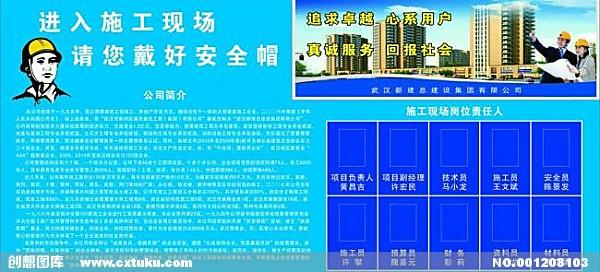helmet: (22, 39, 64, 71), (561, 31, 573, 41), (577, 39, 590, 48)
